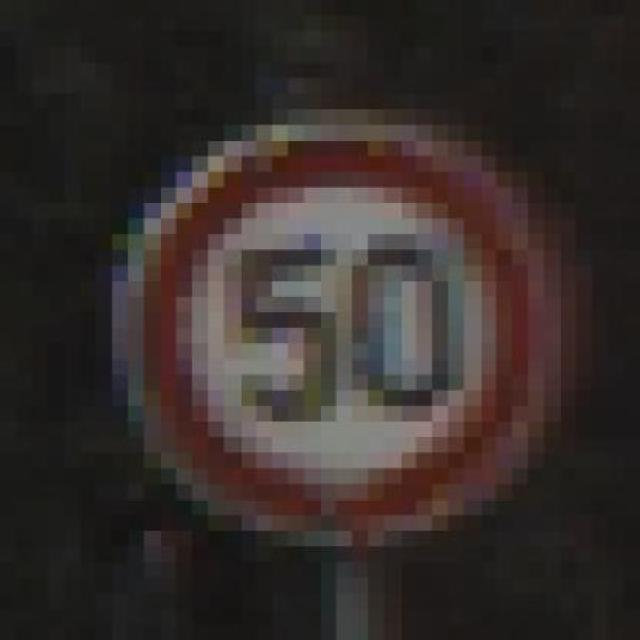50 mph speed limit: (91, 98, 603, 551)
